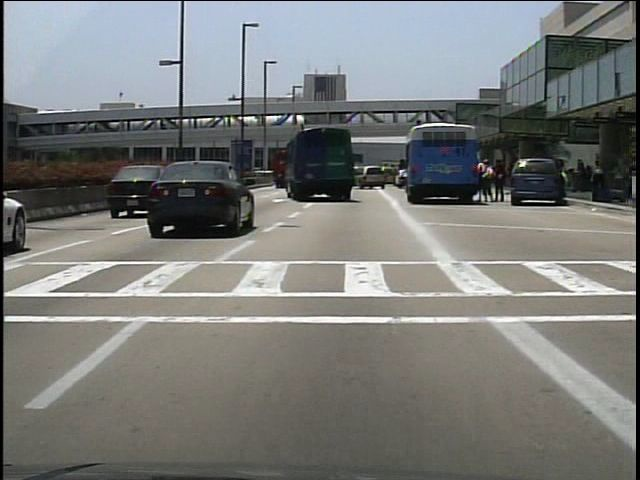person: (479, 158, 495, 204), (492, 161, 507, 205), (559, 164, 572, 203)
